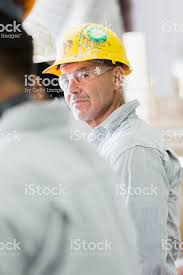Person_wearing_helmet: (40, 23, 133, 90)
